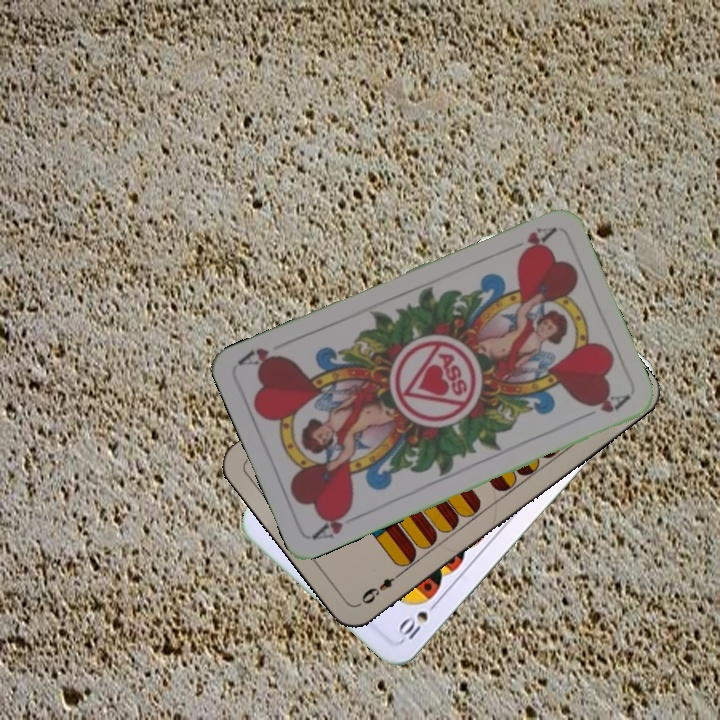E9: (355, 567, 406, 608)
HA: (309, 503, 365, 543), (501, 223, 558, 259)
S10: (394, 596, 442, 643)
